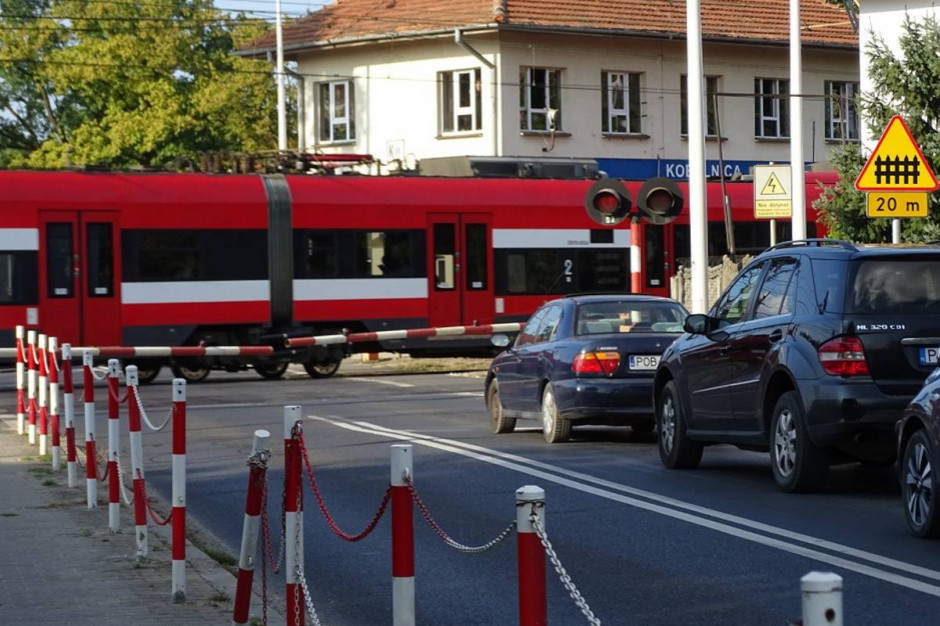a9: (871, 152, 921, 186)
